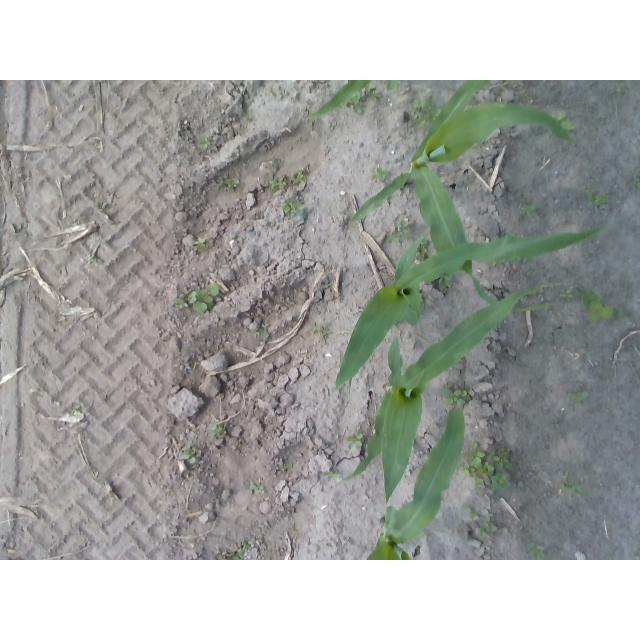Maize: (353, 80, 579, 313), (334, 225, 602, 412), (342, 281, 562, 503), (365, 408, 465, 560), (304, 80, 397, 120)
Weeds: (465, 442, 495, 486), (413, 93, 440, 126), (194, 282, 218, 312), (588, 302, 612, 323), (443, 387, 469, 405), (559, 476, 581, 497), (283, 199, 305, 218), (174, 292, 197, 309), (581, 290, 600, 309), (586, 190, 607, 207), (490, 475, 511, 490), (347, 431, 363, 450), (181, 449, 201, 464), (270, 174, 287, 190), (528, 542, 545, 558), (480, 522, 497, 538), (233, 542, 248, 560), (369, 167, 388, 181), (364, 85, 381, 100), (572, 386, 587, 402), (293, 167, 308, 182), (349, 98, 363, 114), (522, 203, 538, 217), (494, 450, 508, 466), (195, 237, 210, 251), (398, 220, 414, 233), (201, 137, 215, 151), (210, 424, 224, 438), (271, 156, 283, 172), (227, 178, 240, 191), (466, 508, 479, 521), (386, 232, 399, 244), (559, 289, 573, 300), (561, 119, 574, 130), (610, 83, 623, 94), (324, 470, 341, 478), (10, 225, 23, 235), (421, 241, 429, 255), (252, 486, 266, 494), (309, 325, 320, 335), (89, 255, 103, 262), (558, 109, 566, 120), (216, 181, 225, 189), (261, 332, 270, 340), (633, 175, 640, 185), (262, 323, 270, 329), (286, 462, 292, 468), (253, 331, 259, 337)
